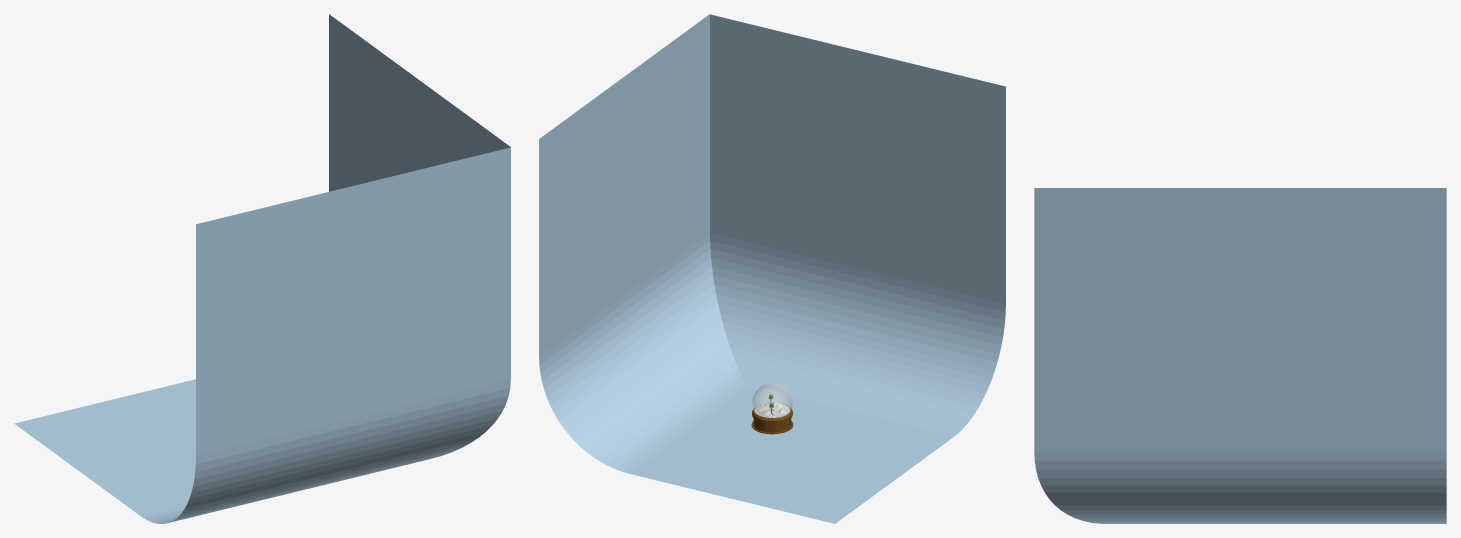
Rendered from snowglobe.gltf.
3 renders of one model, left to right at view 1: azimuth 30°, elevation 25°; view 2: azimuth 150°, elevation 25°; view 3: azimuth 270°, elevation 25°, orthographic. The views are drawn at different scales.
Visible parts, largest first — view 1: Plane; view 2: Plane, Sphere, Cylinder.002; view 3: Plane.
Part boxes in pixels (x1,y1,x2,y2): Plane: (14, 14, 510, 523); Plane: (539, 14, 1005, 523); Sphere: (752, 383, 792, 418); Cylinder.002: (751, 402, 793, 434); Plane: (1034, 188, 1446, 523).
Size of the model in its own units: 298 by 301 by 298.
